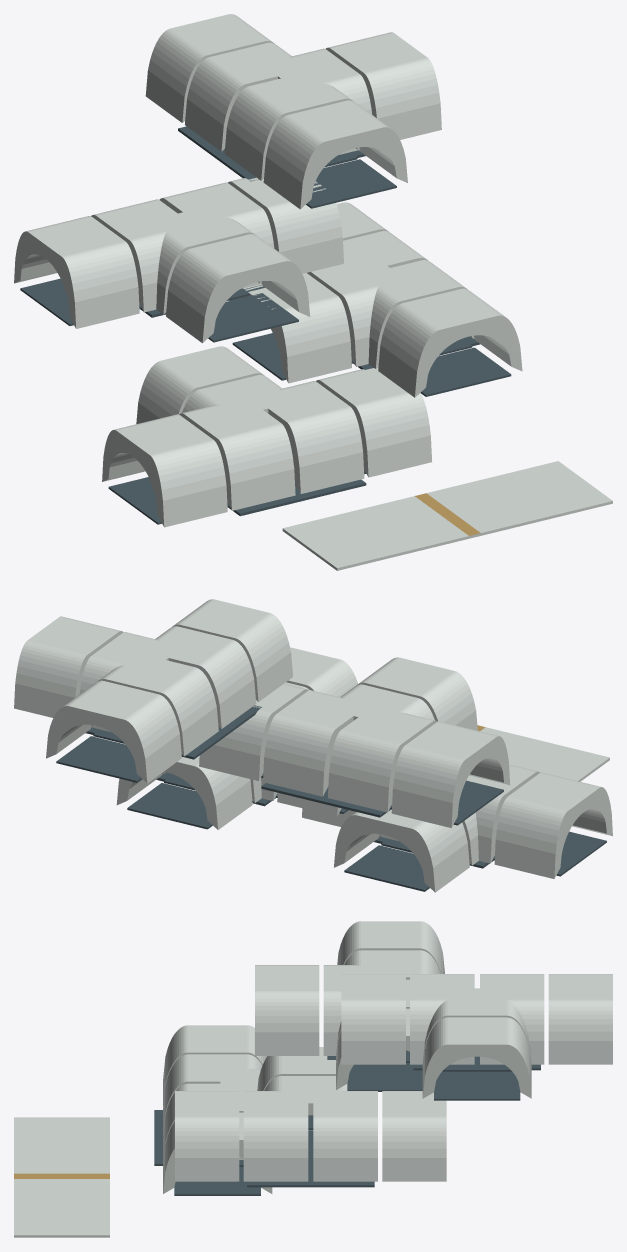
Rendered from study.glb.
The picture shows the model from 3 angles, top to bottom: view 1: azimuth 30°, elevation 25°; view 2: azimuth 150°, elevation 25°; view 3: azimuth 270°, elevation 25°; orthographic projection. The views are drawn at different scales.
Visible parts, largest first — view 1: GROUND ARRIVAL / 0m, B2 court wing 1 roof/ground bay 0, B0 court wing 0 roof/ground bay 1, B3 court wing 1 roof/ground bay 0, B1 court wing 0 roof/ground bay 1, B2 court wing 2 roof/ground bay 1, B0 court wing 0 roof/ground bay 0, B0 court wing 1 roof/ground bay 1, B0 court wing 1 roof/ground bay 0, B3 court wing 2 roof/ground bay 1, B3 court wing 0 roof/ground bay 1, B1 court wing 2 roof/ground bay 1 (+21 smaller); view 2: B0 court wing 0 roof/ground bay 1, B2 court wing 1 roof/ground bay 0, B3 court wing 0 roof/ground bay 1, B2 court wing 1 roof/ground bay 1, B2 court wing 0 roof/ground bay 0, B3 court wing 2 roof/ground bay 1, B0 court wing 2 roof/ground bay 1, B3 court wing 1 roof/ground bay 0, B3 court wing 0 roof/ground bay 0, B3 court wing 1 roof/ground bay 1, B2 court wing 2 roof/ground bay 1, B2 court wing 0 roof/ground bay 1 (+16 smaller); view 3: GROUND ARRIVAL / 0m, B1 court wing 0 roof/ground bay 1, B2 court wing 2 roof/ground bay 1, B3 court wing 0 roof/ground bay 1, B3 court wing 1 roof/ground bay 0, B1 court wing 0 roof/ground bay 0, B1 court wing 1 roof/ground bay 1, B1 court wing 1 roof/ground bay 0, B3 court wing 2 roof/ground bay 1, B2 court wing 1 roof/ground bay 0, B3 court wing 0 roof/ground bay 0, B3 court wing 1 roof/ground bay 1 (+18 smaller).
Boxes of the visible parts, x1,y1,x2,y2 form: GROUND ARRIVAL / 0m: (282,461,612,570); B2 court wing 1 roof/ground bay 0: (14,216,139,328); B0 court wing 0 roof/ground bay 1: (102,414,227,527); B3 court wing 1 roof/ground bay 0: (263,100,407,209); B1 court wing 0 roof/ground bay 1: (378,288,522,397); B2 court wing 2 roof/ground bay 1: (166,234,310,343); B0 court wing 0 roof/ground bay 0: (179,399,295,510); B0 court wing 1 roof/ground bay 1: (254,381,364,493); B0 court wing 1 roof/ground bay 0: (316,367,431,477); B3 court wing 2 roof/ground bay 1: (326,32,441,139); B3 court wing 0 roof/ground bay 1: (145,14,274,122); B1 court wing 2 roof/ground bay 1: (230,273,351,383); B0 court wing 0 roof/ground bay 1: (494,772,612,878); B2 court wing 1 roof/ground bay 0: (391,721,509,827); B3 court wing 0 roof/ground bay 1: (46,680,181,783); B2 court wing 1 roof/ground bay 1: (328,707,437,812); B2 court wing 0 roof/ground bay 0: (263,690,366,796); B3 court wing 2 roof/ground bay 1: (14,616,123,717); B0 court wing 2 roof/ground bay 1: (334,809,469,892); B3 court wing 1 roof/ground bay 0: (172,599,292,701); B3 court wing 0 roof/ground bay 0: (91,654,218,756); B3 court wing 1 roof/ground bay 1: (146,626,256,728); B2 court wing 2 roof/ground bay 1: (356,657,477,730); B2 court wing 0 roof/ground bay 1: (199,683,308,780); GROUND ARRIVAL / 0m: (14,1117,109,1237); B1 court wing 0 roof/ground bay 1: (175,1091,239,1181); B2 court wing 2 roof/ground bay 1: (255,965,319,1055); B3 court wing 0 roof/ground bay 1: (548,974,612,1064); B3 court wing 1 roof/ground bay 0: (341,974,405,1064); B1 court wing 0 roof/ground bay 0: (243,1091,308,1181); B1 court wing 1 roof/ground bay 1: (313,1091,377,1181); B1 court wing 1 roof/ground bay 0: (382,1091,446,1181); B3 court wing 2 roof/ground bay 1: (422,1017,531,1098); B2 court wing 1 roof/ground bay 0: (337,921,444,973); B3 court wing 0 roof/ground bay 0: (480,974,544,1064); B3 court wing 1 roof/ground bay 1: (410,974,474,1064).
Size of the model in its own units: 3240 by 1820 by 4500.
